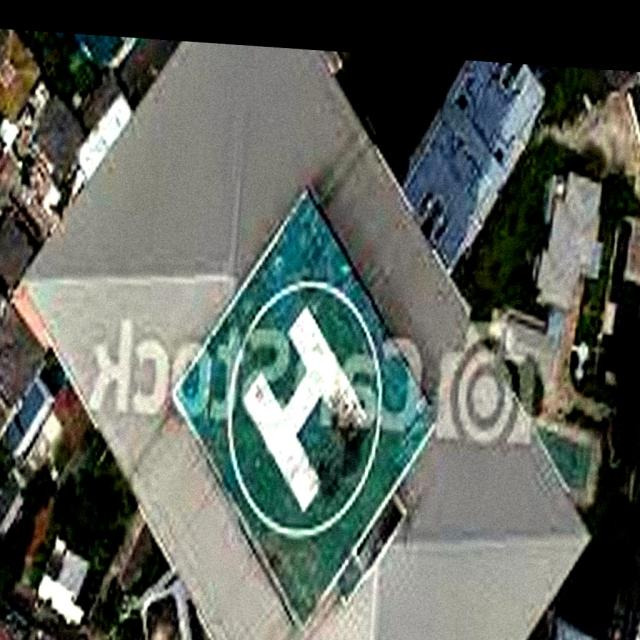helipad: (224, 276, 384, 540)
